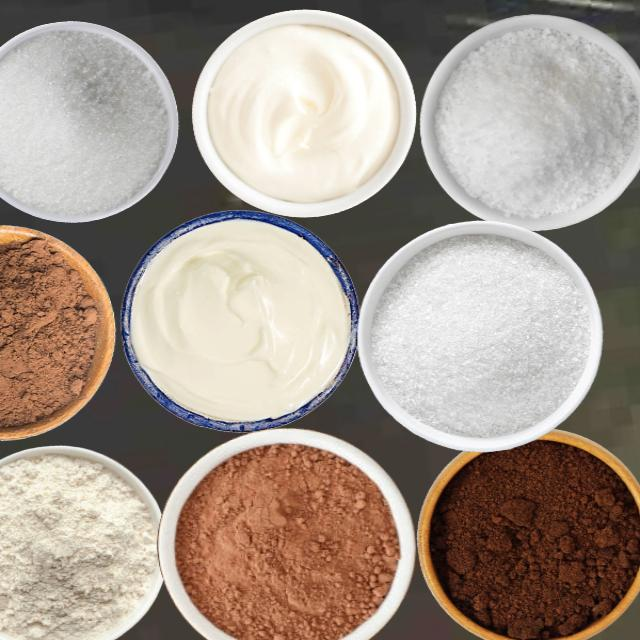Cocoa: (174, 441, 399, 639), (0, 224, 123, 438)
Coffee: (429, 438, 639, 639)
Flour: (0, 453, 159, 639)
Sugar: (369, 233, 591, 438), (433, 25, 638, 218), (0, 28, 169, 216)
